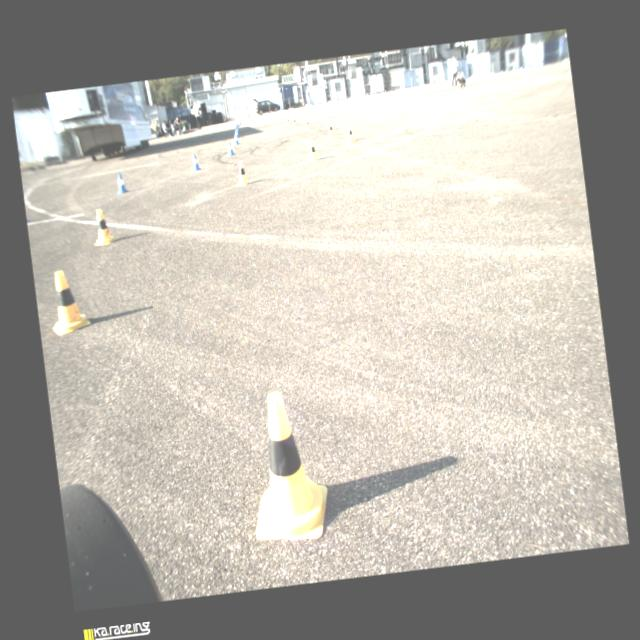blue_cone: (115, 172, 128, 194), (190, 152, 201, 170), (226, 140, 235, 156), (232, 134, 240, 146), (234, 129, 238, 138)
yellow_cone: (239, 386, 333, 546), (46, 268, 90, 336), (90, 207, 114, 245), (233, 160, 250, 186), (306, 139, 318, 161), (344, 124, 355, 142), (326, 122, 334, 136), (304, 117, 310, 129), (285, 116, 290, 125), (292, 116, 296, 125)
